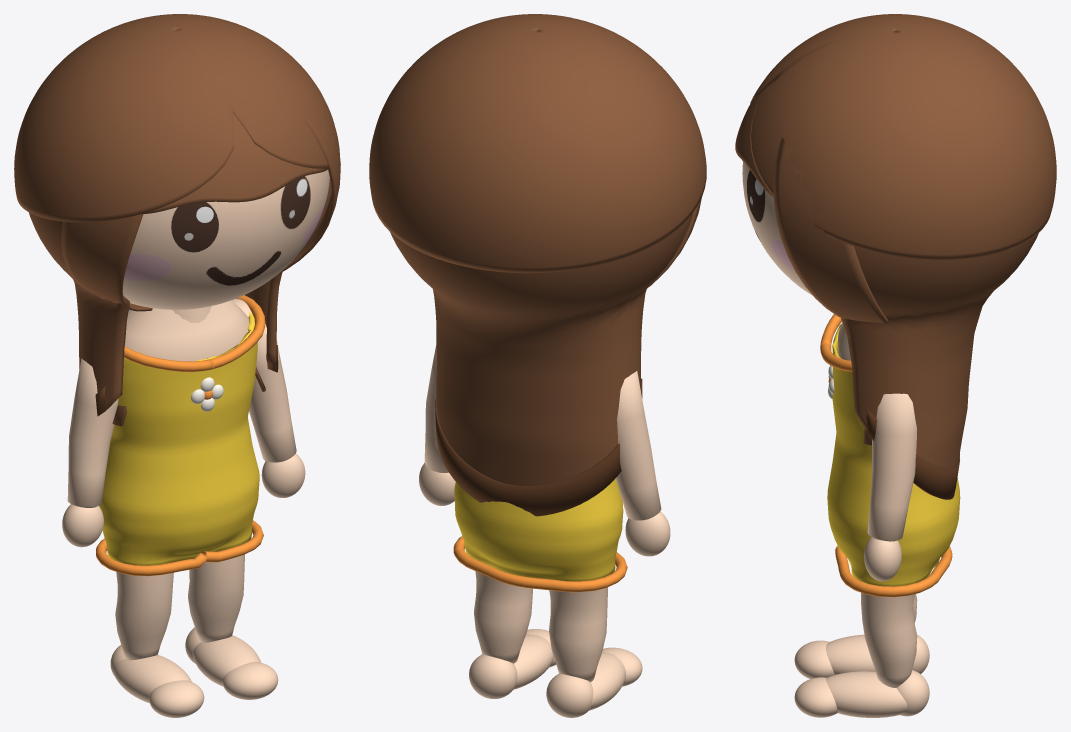
The model's file is lily4.glb.
3 renders of one model, left to right at view 1: azimuth 30°, elevation 25°; view 2: azimuth 150°, elevation 25°; view 3: azimuth 270°, elevation 25°, orthographic. The views are drawn at different scales.
Parts seen in each view (by area): view 1: HairCap, Suit, Head, HairBack, Torso, HairLockR, ArmR, Bangs, LegR, LegL, ArmL, TrimHem (+8 smaller); view 2: HairCap, HairBack, Suit, HairBackShade, LegR, ArmR, LegL, TrimHem, FootHeelL, FootHeelR, HandR, FootL (+4 smaller); view 3: HairCap, HairBack, Suit, HairLockL, ArmL, LegL, FootL, Head, TrimHem, HairBackShade, FootR, HandL (+5 smaller).
Part boxes in pixels (x1,y1,x2,y2): HairCap: (14, 14, 339, 222); Suit: (99, 312, 259, 565); Head: (122, 169, 329, 309); HairBack: (29, 179, 331, 414); Torso: (124, 300, 249, 361); HairLockR: (61, 214, 152, 426); ArmR: (67, 358, 118, 507); Bangs: (141, 113, 328, 214); LegR: (115, 572, 173, 660); LegL: (188, 554, 244, 643); ArmL: (249, 324, 296, 462); TrimHem: (96, 520, 263, 576); HairCap: (369, 14, 706, 273); HairBack: (390, 216, 690, 485); Suit: (454, 478, 623, 581); HairBackShade: (435, 378, 642, 516); LegR: (549, 587, 607, 682); ArmR: (615, 371, 661, 520); LegL: (474, 571, 532, 663); TrimHem: (453, 536, 627, 592); FootHeelL: (469, 654, 517, 698); FootHeelR: (546, 673, 593, 717); HandR: (625, 511, 670, 556); FootL: (481, 634, 553, 689); HairCap: (750, 14, 1056, 260); HairBack: (841, 233, 1038, 496); Suit: (827, 322, 960, 586); HairLockL: (773, 137, 887, 445); ArmL: (867, 393, 916, 541); LegL: (861, 592, 917, 687); FootL: (826, 671, 907, 717); Head: (742, 161, 812, 295); TrimHem: (835, 546, 952, 597); HairBackShade: (866, 407, 959, 499); FootR: (826, 634, 875, 674); HandL: (864, 537, 901, 581).
Bounding box in the file's own units: 0.466 × 1.01 × 0.4439.
Materials: 7 (1 with a texture image).
